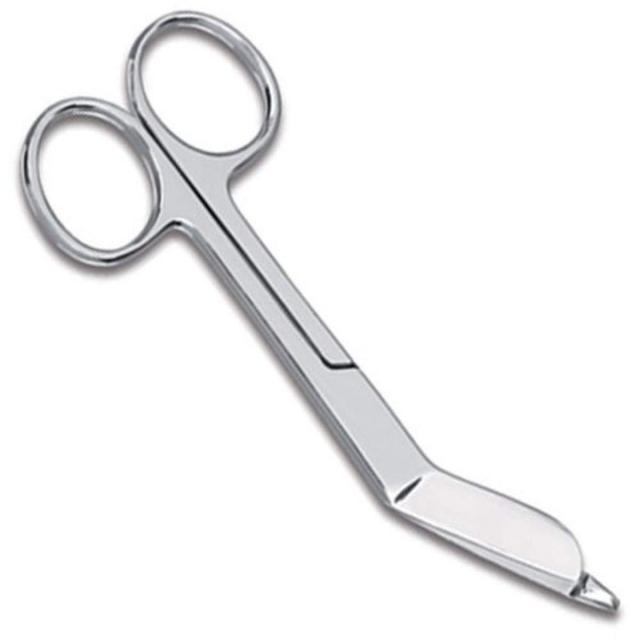scissors: (19, 7, 624, 614)
